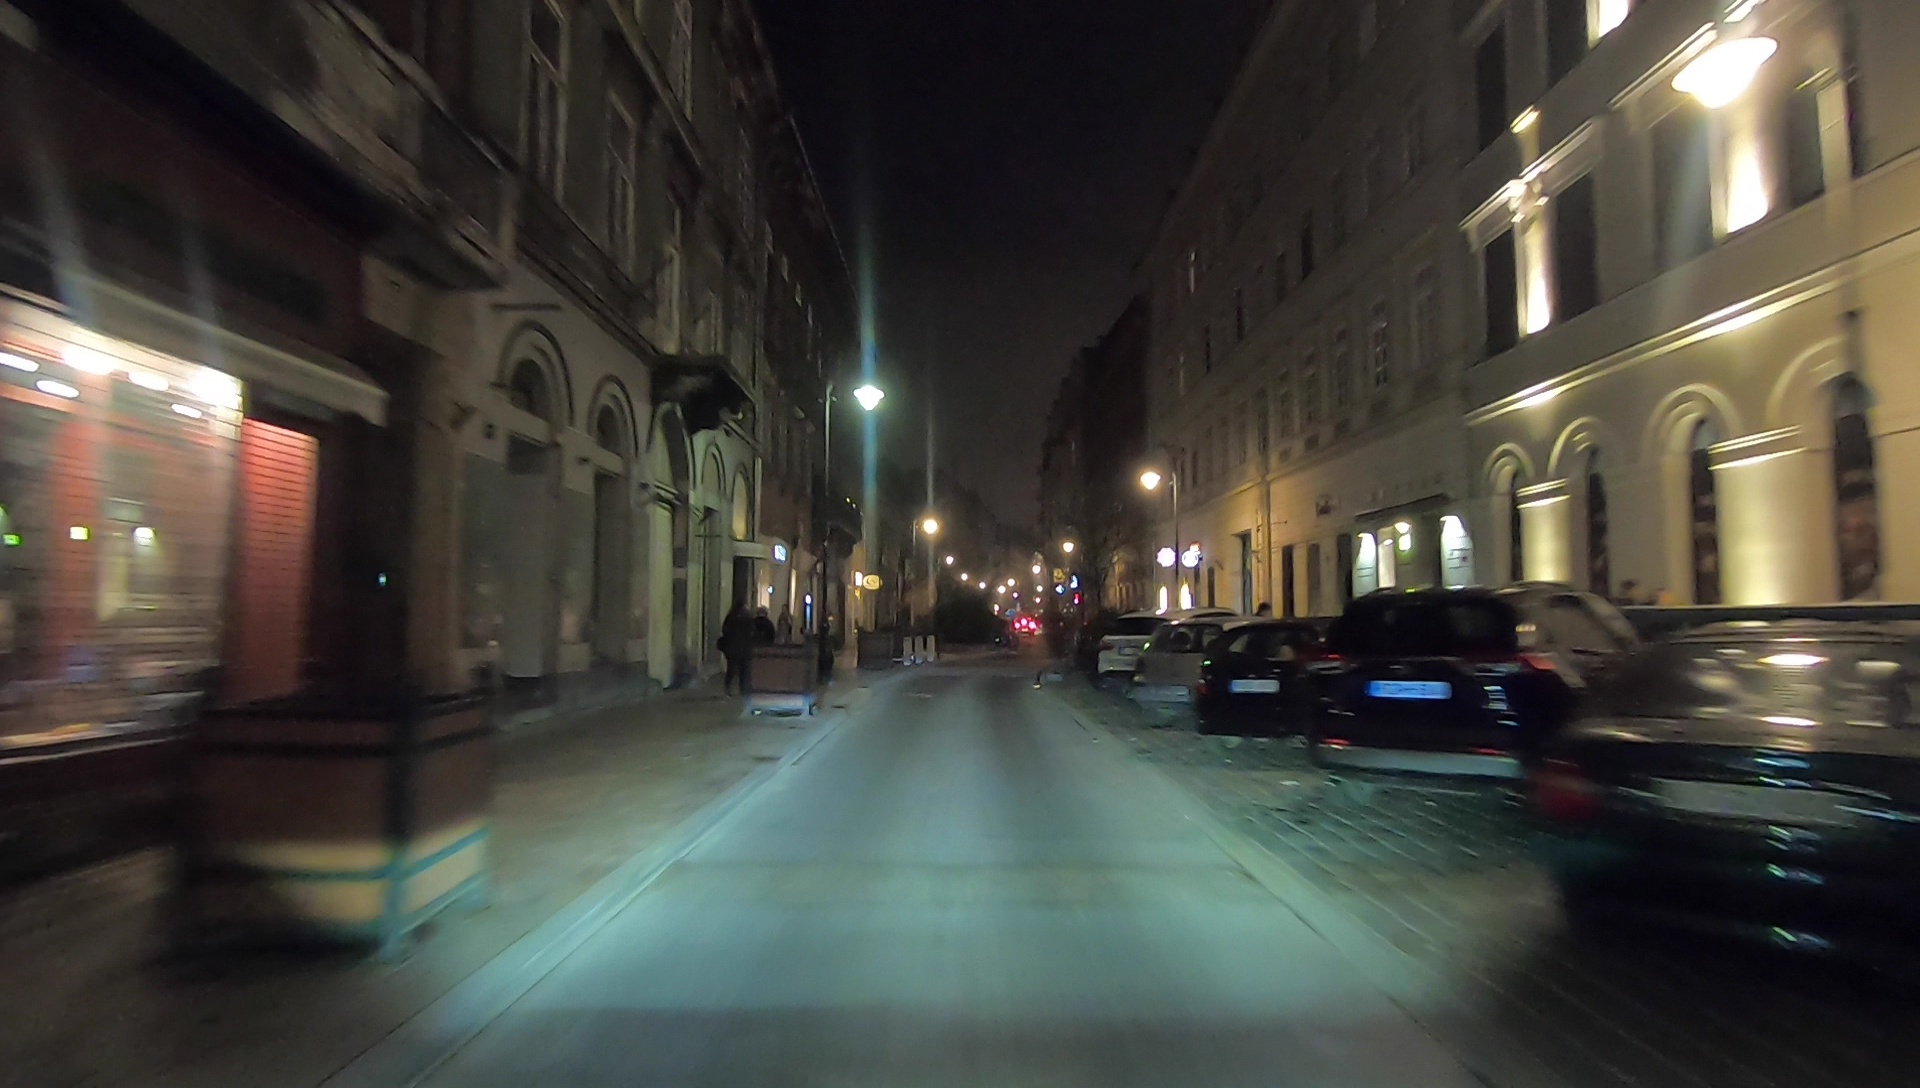person: (725, 593, 747, 691), (751, 604, 767, 691)
